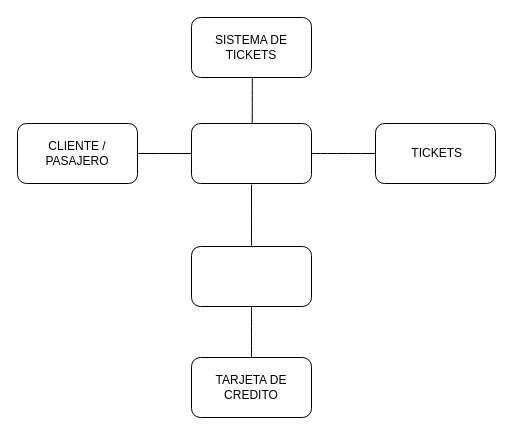
Some shapes in this 513 by 435 pixel diagram are drawn without their labels. The box of each missing label's shape, as (x1, y1, x2, y2) in pixels:
EXPENDEDOR DE TICKETS: (190, 122, 312, 184)
SISTEMA / PASARELA DE PAGO: (190, 246, 312, 306)
